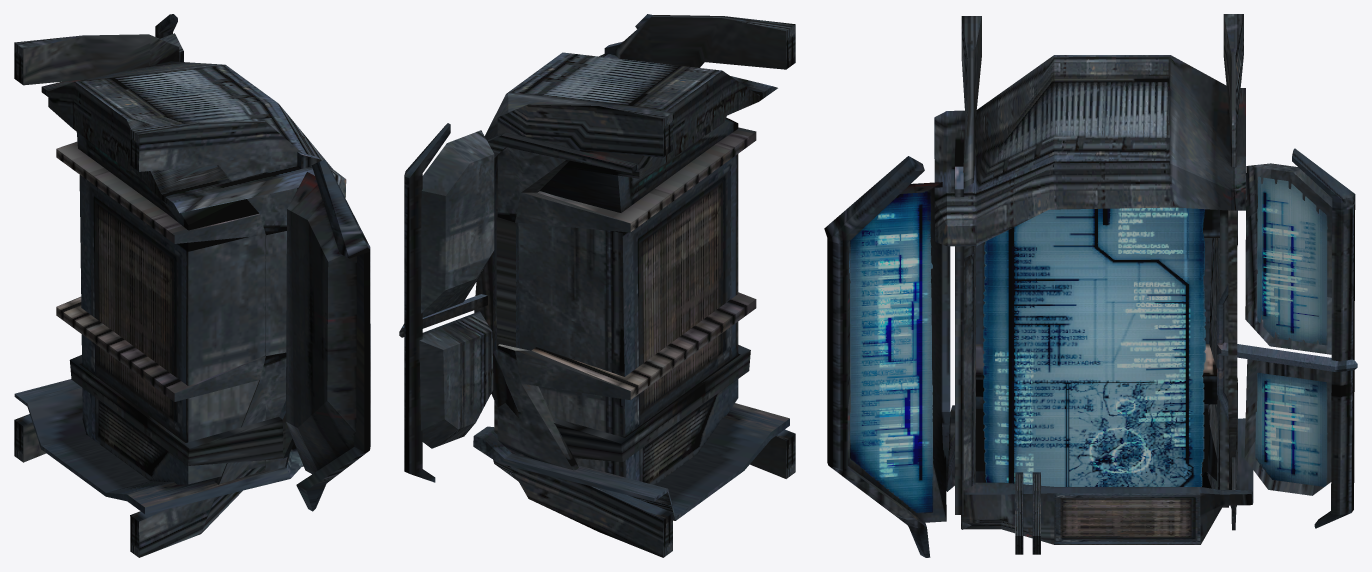
The model's file is monitor01.fbx.
3 views of the same model, side by side, from view 1: azimuth 30°, elevation 25°; view 2: azimuth 150°, elevation 25°; view 3: azimuth 270°, elevation 25° (orthographic). The views are drawn at different scales.
Visible parts, largest first — view 1: Body.combine_intmonitor003_reference.smd.mesh_0; view 2: Body.combine_intmonitor003_reference.smd.mesh_0; view 3: Body.combine_intmonitor003_reference.smd.mesh_0, Body.combine_intmonitor003_reference.smd.mesh_1.
Boxes of the visible parts, x1,y1,x2,y2 form: Body.combine_intmonitor003_reference.smd.mesh_0: (14,14,370,557); Body.combine_intmonitor003_reference.smd.mesh_0: (399,14,795,557); Body.combine_intmonitor003_reference.smd.mesh_0: (824,14,1357,557); Body.combine_intmonitor003_reference.smd.mesh_1: (849,176,1327,513).
Size of the model in its own units: 35.23 by 70.07 by 70.61.
2 materials, 2 textured.
